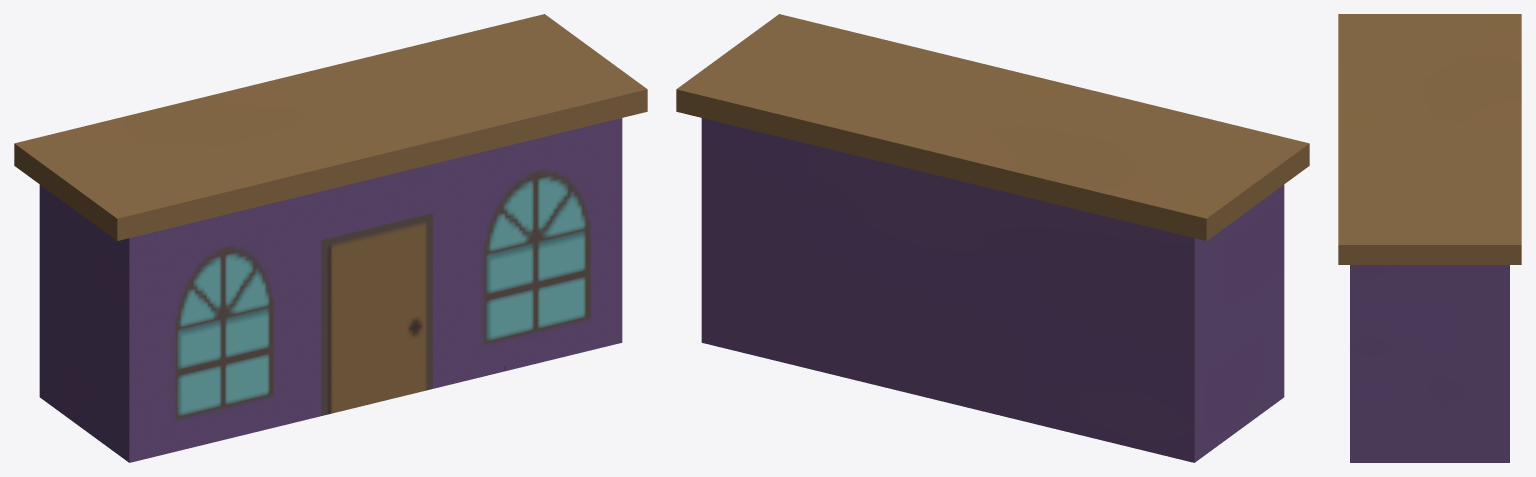
The model's file is predioroxo.obj.
3 renders of one model, left to right at view 1: azimuth 30°, elevation 25°; view 2: azimuth 150°, elevation 25°; view 3: azimuth 270°, elevation 25°, orthographic. The views are drawn at different scales.
Visible parts, largest first — view 1: Cube; view 2: Cube; view 3: Cube.
Part boxes in pixels (box(x1,y1,x2,y2)): Cube: box(14, 14, 647, 462); Cube: box(676, 14, 1309, 462); Cube: box(1338, 14, 1521, 462).
Bounding box in the file's own units: 6.82 × 3.12 × 2.29.
Materials: 1 (1 with a texture image).
